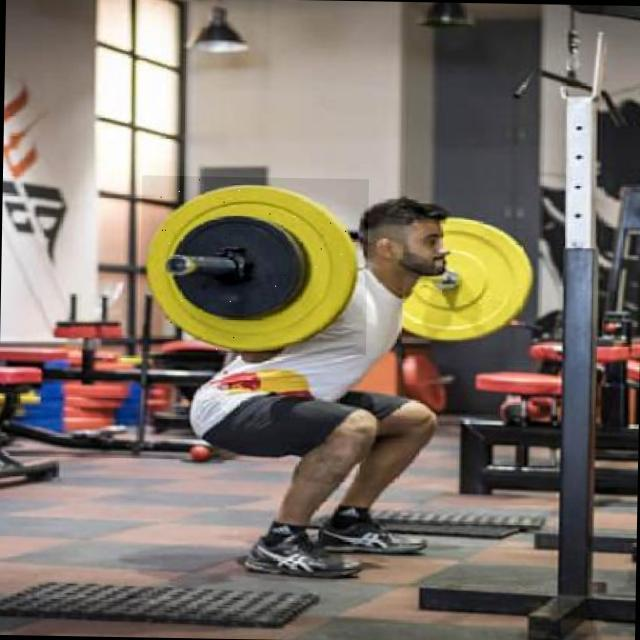barbell: (140, 176, 370, 356)
